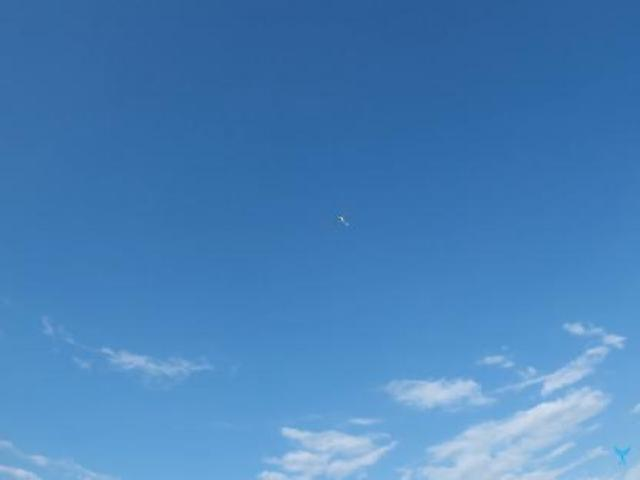uav: (332, 206, 356, 235)
